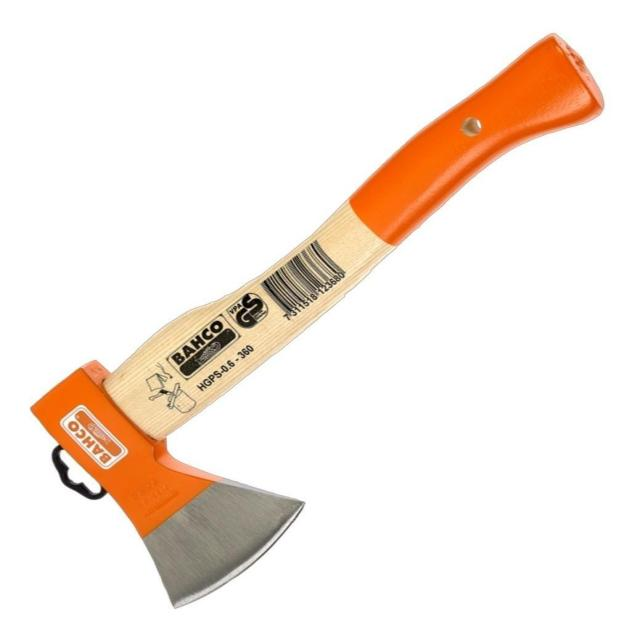Kapak: (24, 18, 572, 566)
